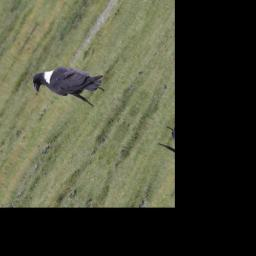Crow: (28, 46, 111, 119)
